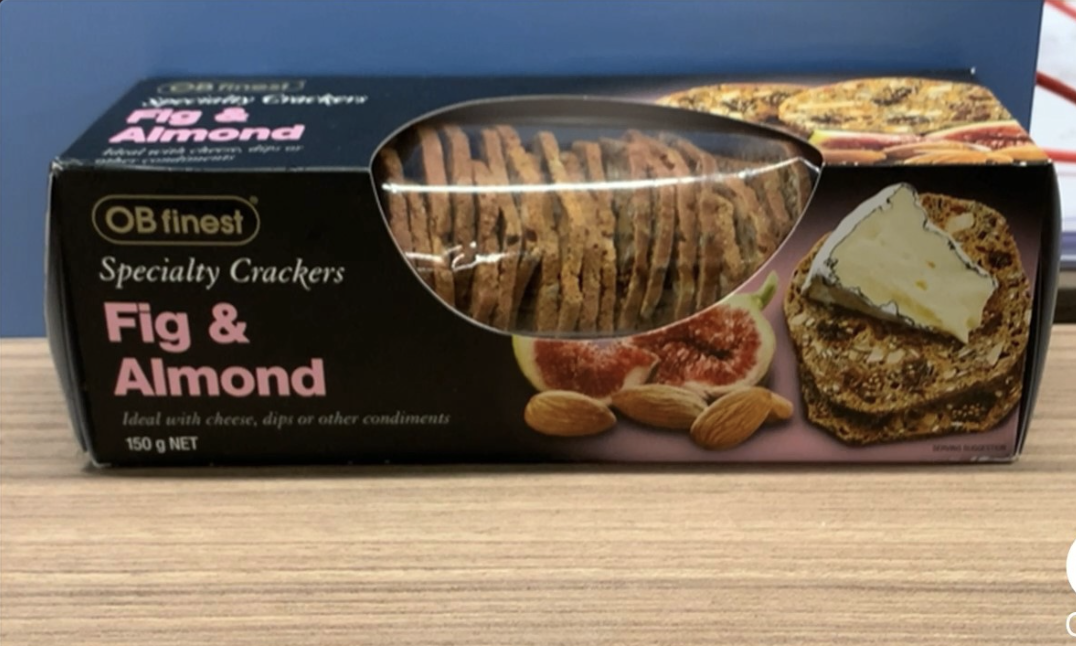crackers_100g-199g: (83, 178, 980, 450)
